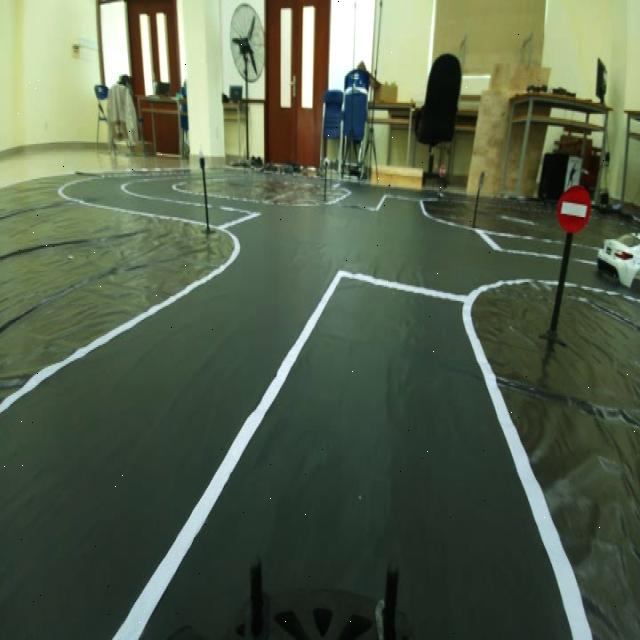no_entry: (554, 180, 586, 233)
